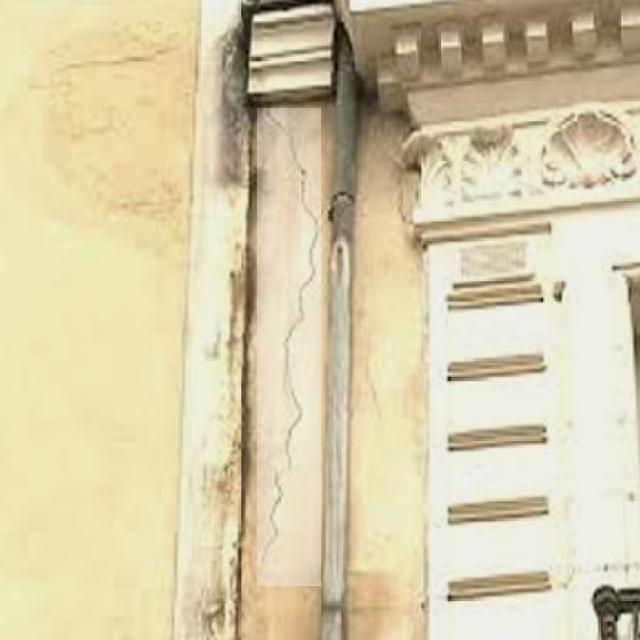Crack: (262, 110, 321, 584)
